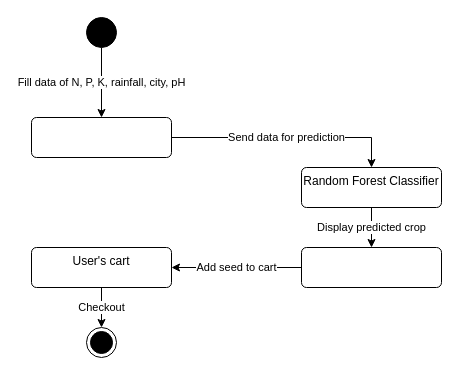
The diagram is 459 pixels wide and 375 high, and some of its shapes have lost their labels. The shapes that lost their labels are listed below. From the top down, each one's centre as x and y in pixels, then its label:
At (x=101, y=137): "Crop Recommendation Form".
At (x=371, y=267): "Predicted Crop".
